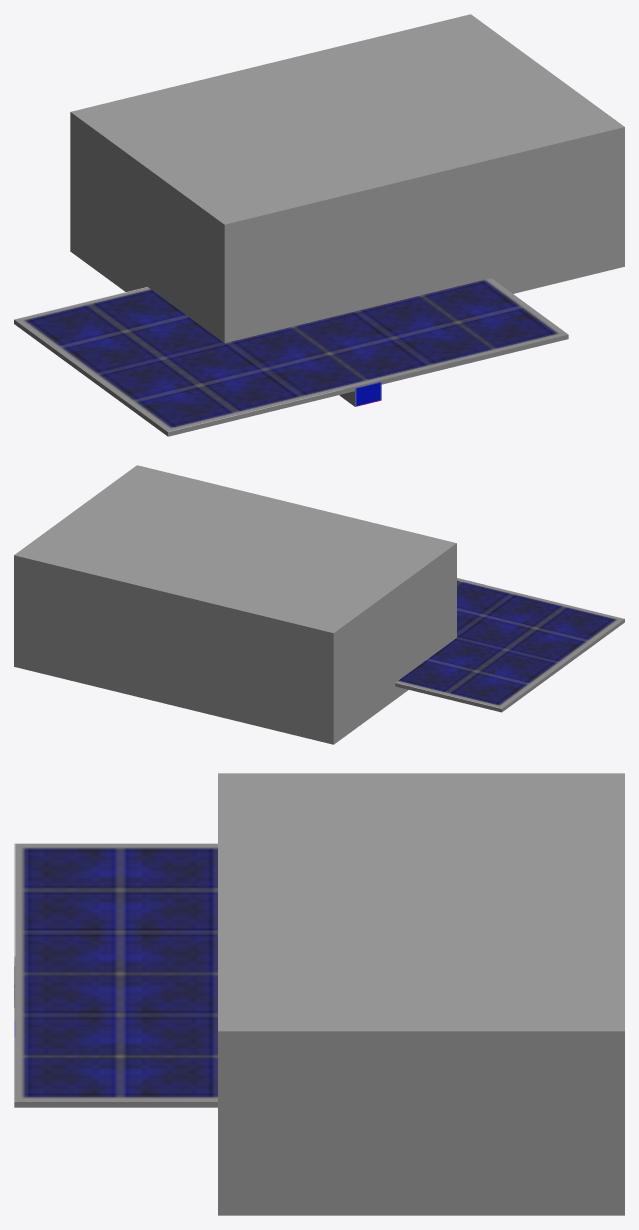
The model's file is bigSolarPanel.obj.
The picture shows the model from 3 angles, top to bottom: view 1: azimuth 30°, elevation 25°; view 2: azimuth 150°, elevation 25°; view 3: azimuth 270°, elevation 25°; orthographic projection. The views are drawn at different scales.
Parts seen in each view (by area): view 1: main, Minecraft_Block_Cube, Minecraft_Block.005_Cube.005, Minecraft_Block.004_Cube.004, Minecraft_Block.001_Cube.001, Minecraft_Block.003_Cube.003, Minecraft_Block.002_Cube.002; view 2: Minecraft_Block.001_Cube.001, Minecraft_Block.002_Cube.002, Minecraft_Block.003_Cube.003, main, Minecraft_Block_Cube, Minecraft_Block.004_Cube.004, Minecraft_Block.005_Cube.005; view 3: Minecraft_Block.005_Cube.005, Minecraft_Block.003_Cube.003, main, Minecraft_Block.002_Cube.002, Minecraft_Block.001_Cube.001, Minecraft_Block.004_Cube.004, Minecraft_Block_Cube.
Part boxes in pixels (x1=…): main: x1=14, y1=278, x2=568, y2=436; Minecraft_Block_Cube: x1=147, y1=136, x2=357, y2=343; Minecraft_Block.005_Cube.005: x1=414, y1=70, x2=624, y2=293; Minecraft_Block.004_Cube.004: x1=281, y1=103, x2=491, y2=310; Minecraft_Block.001_Cube.001: x1=70, y1=79, x2=280, y2=291; Minecraft_Block.003_Cube.003: x1=337, y1=14, x2=547, y2=102; Minecraft_Block.002_Cube.002: x1=204, y1=47, x2=413, y2=135; Minecraft_Block.001_Cube.001: x1=227, y1=562, x2=395, y2=744; Minecraft_Block.002_Cube.002: x1=120, y1=536, x2=288, y2=718; Minecraft_Block.003_Cube.003: x1=14, y1=510, x2=181, y2=692; main: x1=395, y1=578, x2=624, y2=712; Minecraft_Block_Cube: x1=289, y1=517, x2=456, y2=699; Minecraft_Block.004_Cube.004: x1=182, y1=491, x2=349, y2=561; Minecraft_Block.005_Cube.005: x1=76, y1=465, x2=243, y2=535; Minecraft_Block.005_Cube.005: x1=218, y1=945, x2=421, y2=1215; Minecraft_Block.003_Cube.003: x1=421, y1=945, x2=624, y2=1215; main: x1=14, y1=843, x2=217, y2=1107; Minecraft_Block.002_Cube.002: x1=421, y1=859, x2=624, y2=945; Minecraft_Block.001_Cube.001: x1=421, y1=773, x2=624, y2=859; Minecraft_Block.004_Cube.004: x1=218, y1=859, x2=421, y2=945; Minecraft_Block_Cube: x1=218, y1=773, x2=421, y2=859.
Bounding box in the file's own units: 4 × 1 × 3.
Materials: 2 (1 with a texture image).
